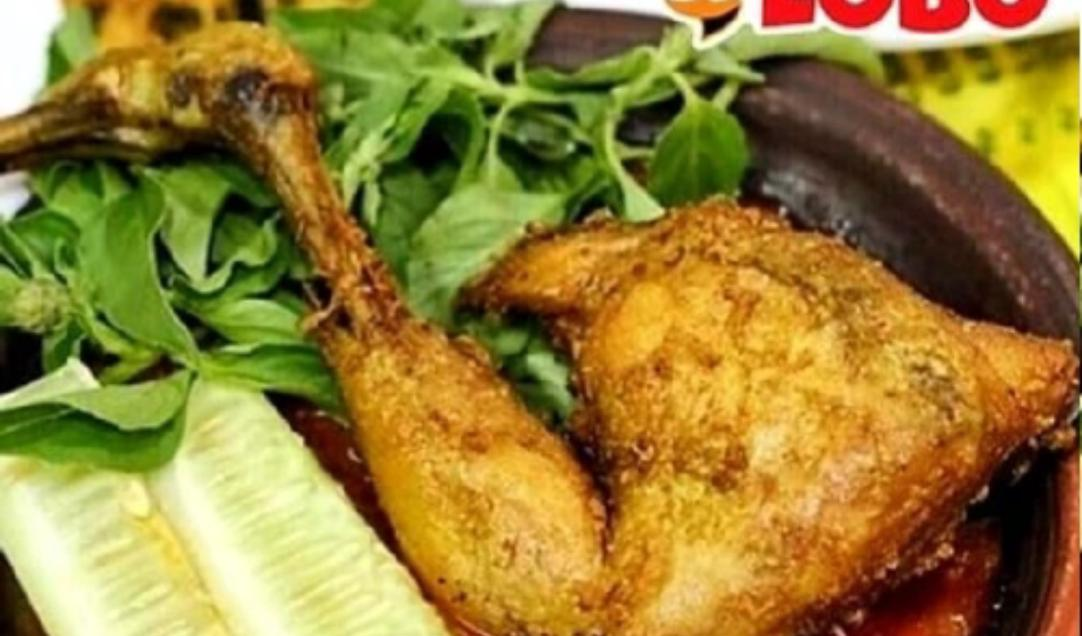Ayam: (122, 21, 1082, 631)
